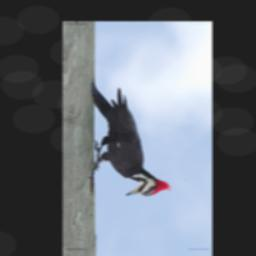Woodpecker: (88, 78, 171, 197)
